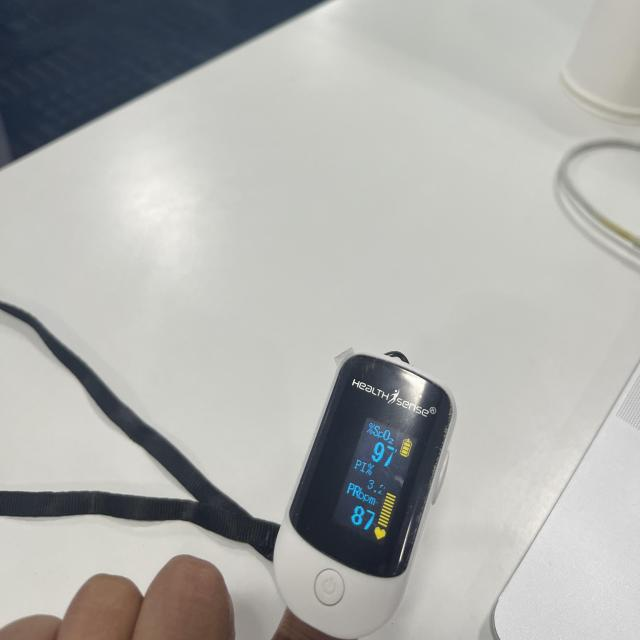spo2: (272, 352, 456, 640)
